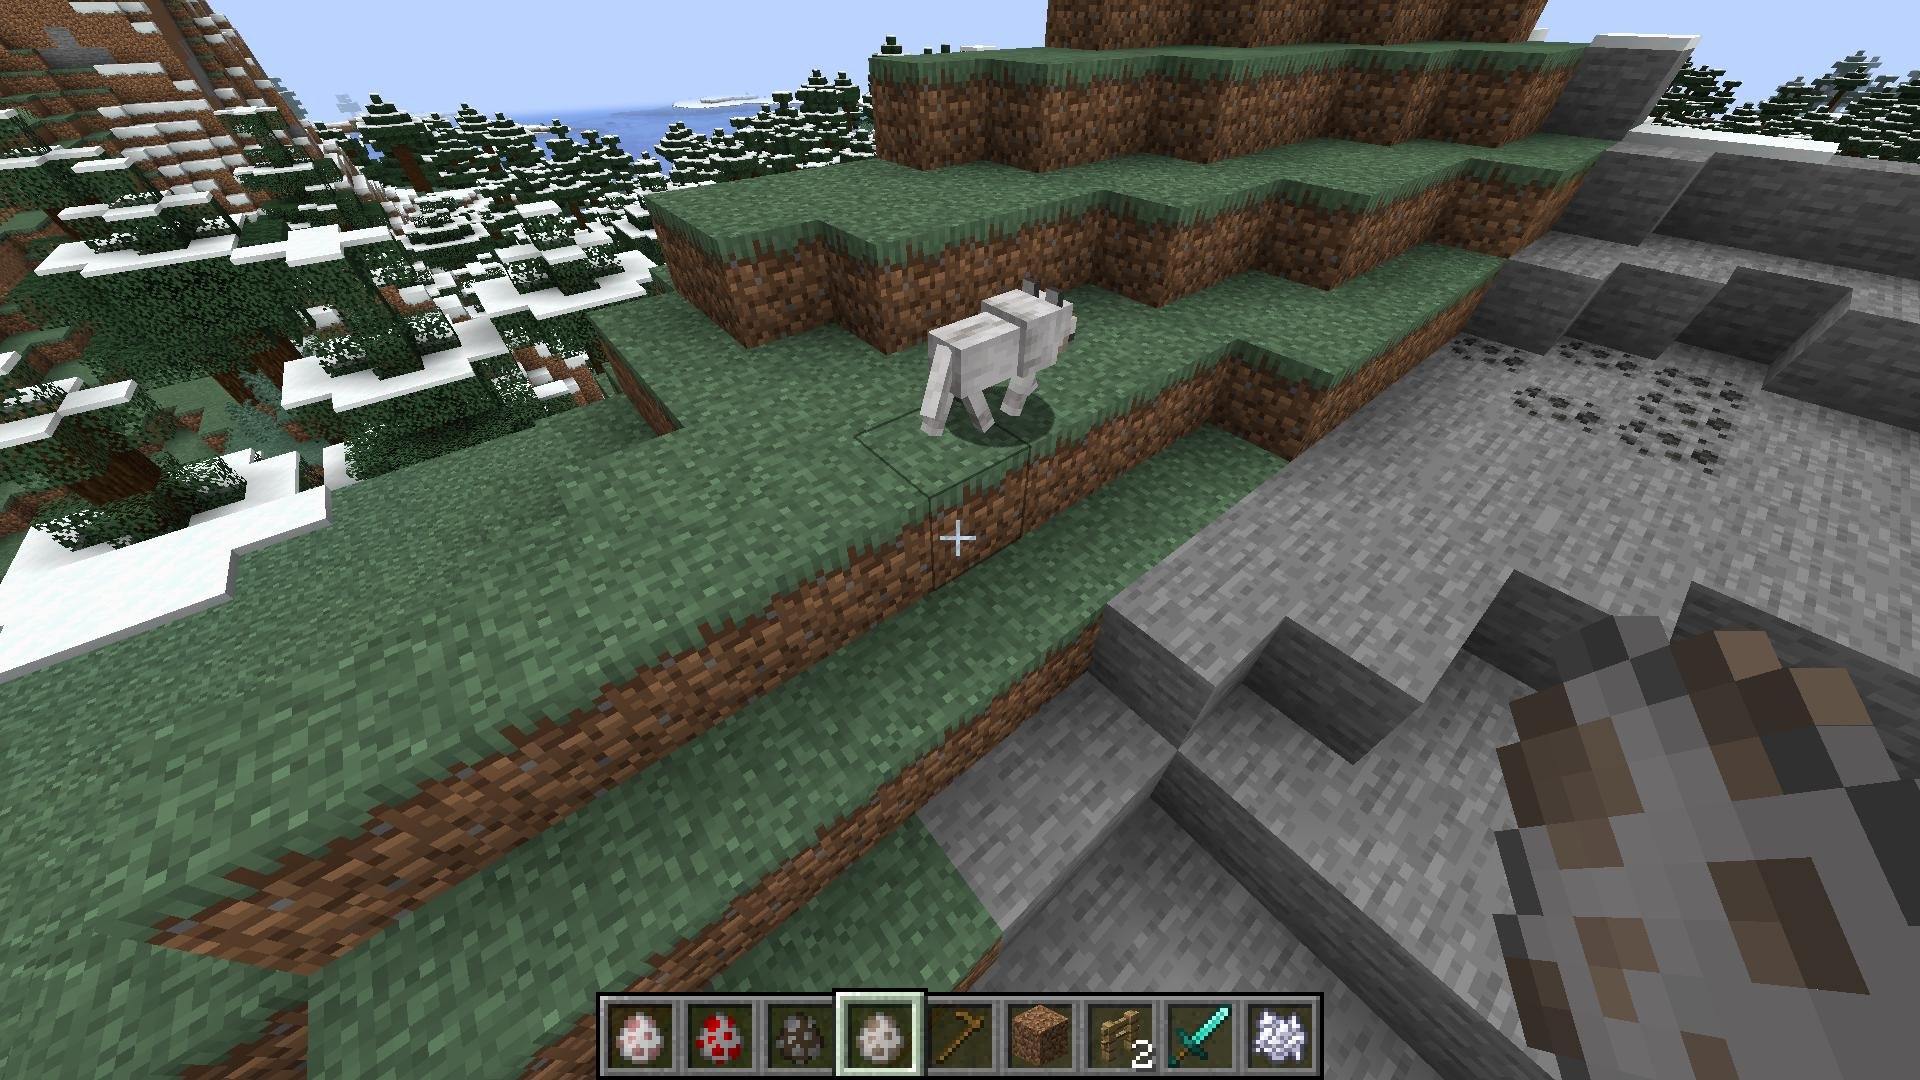wolf: (914, 274, 1087, 439)
